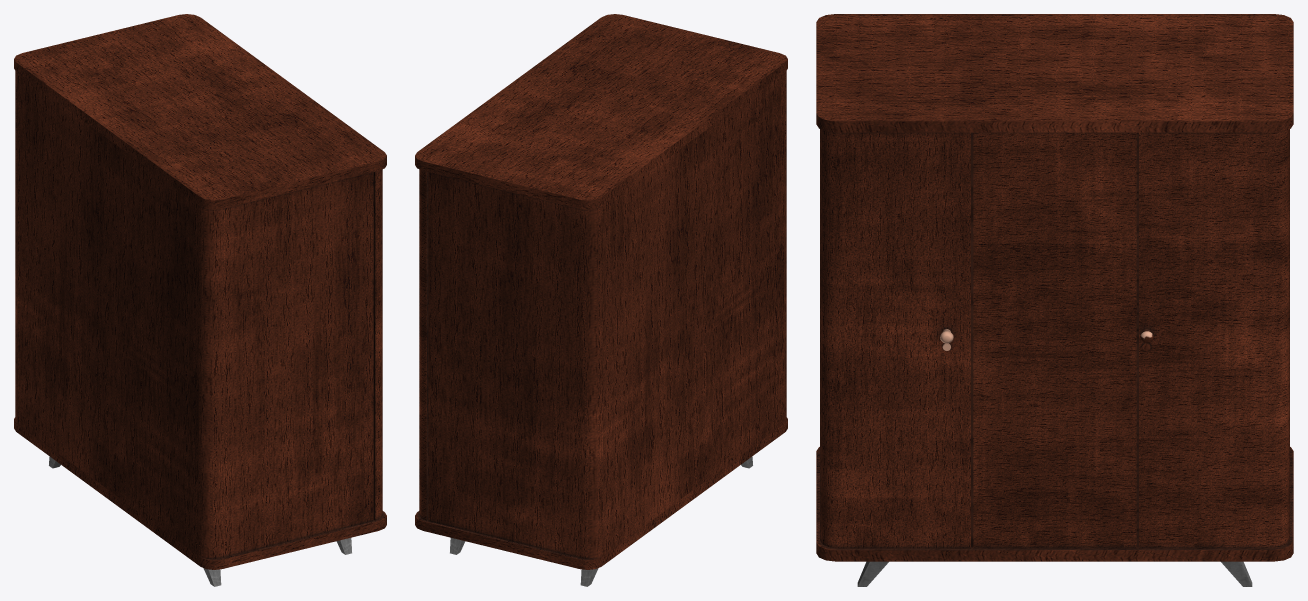
The model's file is Wardrobe.fbx.
3 views of the same model, side by side, from view 1: azimuth 30°, elevation 25°; view 2: azimuth 150°, elevation 25°; view 3: azimuth 270°, elevation 25° (orthographic). The views are drawn at different scales.
Parts seen in each view (by area): view 1: Cube.002_TD_Checker_0, Cube.001_TD_Checker_0, Cube_TD_Checker_0, Cube.003_TD_Checker_0; view 2: Cube.002_TD_Checker_0, Cube.001_TD_Checker_0, Cube_TD_Checker_0, Cube.003_TD_Checker_0; view 3: Cube.002_TD_Checker_0, Cube.001_TD_Checker_0, Cube_TD_Checker_0, Cube.003_TD_Checker_0.
Boxes of the visible parts, box(x1,y1,x2,y2) form: Cube.002_TD_Checker_0: box(15, 71, 382, 559); Cube.001_TD_Checker_0: box(14, 14, 386, 209); Cube_TD_Checker_0: box(14, 417, 386, 569); Cube.003_TD_Checker_0: box(49, 457, 351, 586); Cube.002_TD_Checker_0: box(419, 71, 786, 559); Cube.001_TD_Checker_0: box(415, 14, 787, 209); Cube_TD_Checker_0: box(415, 417, 787, 569); Cube.003_TD_Checker_0: box(450, 457, 752, 586); Cube.002_TD_Checker_0: box(820, 129, 1289, 548); Cube.001_TD_Checker_0: box(816, 14, 1293, 132); Cube_TD_Checker_0: box(816, 447, 1293, 561); Cube.003_TD_Checker_0: box(857, 561, 1252, 586).
Size of the model in its own units: 95.25 by 190 by 171.
1 material, 1 textured.
